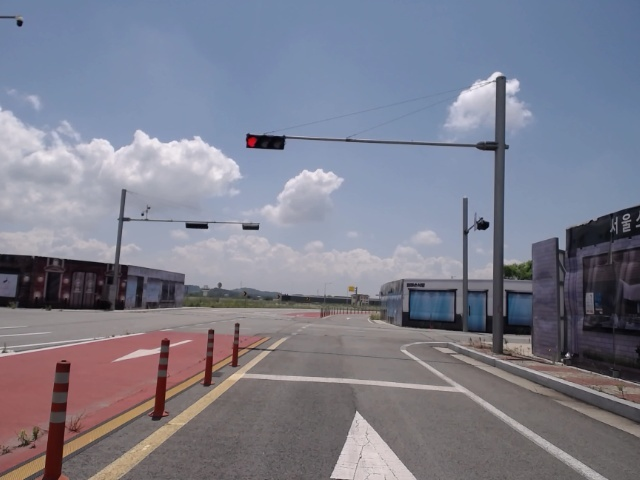red_3: (244, 134, 285, 149)
